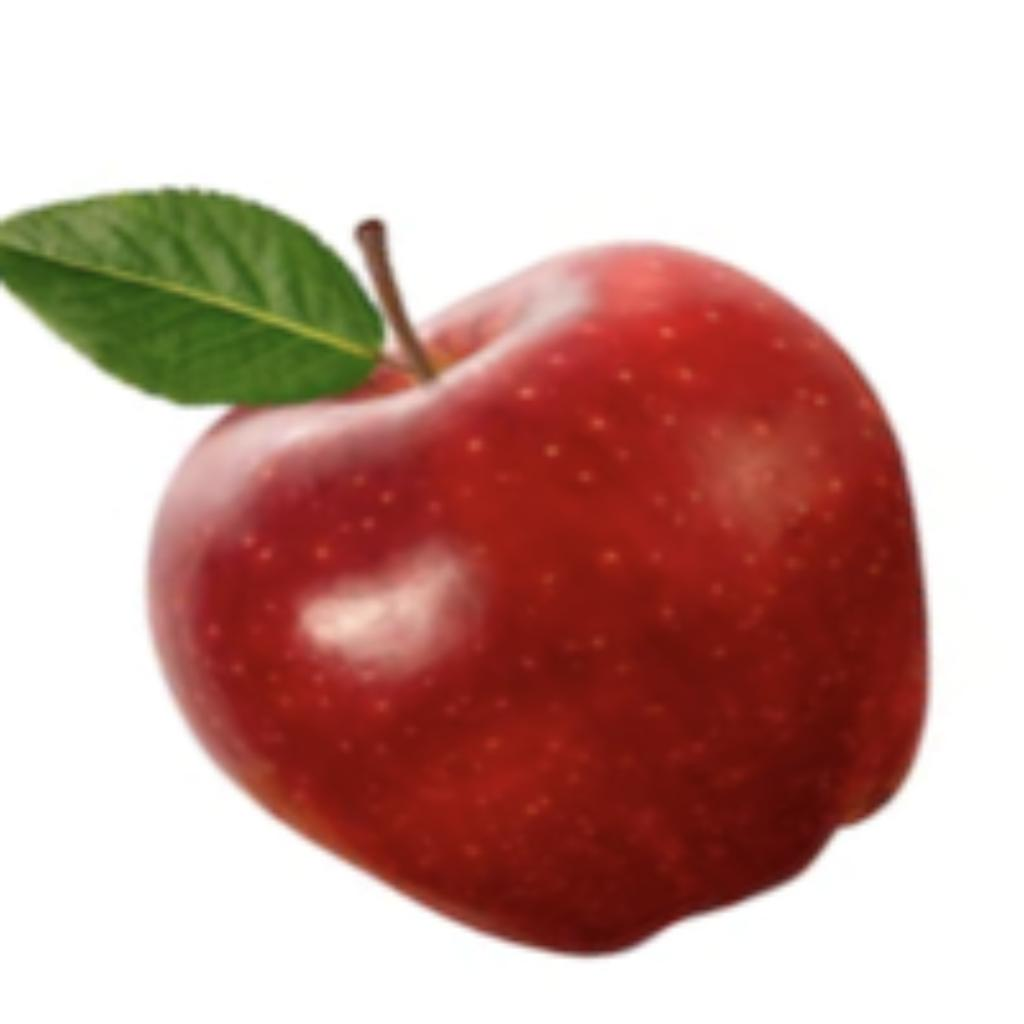apple: (0, 179, 937, 963)
